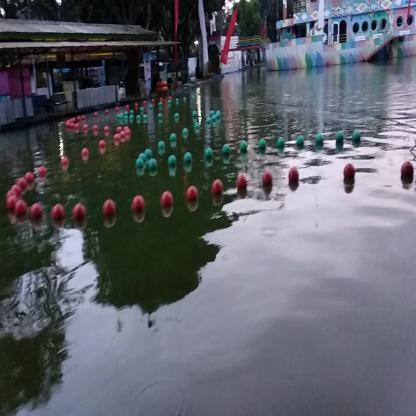green_buoy: (288, 170, 299, 192)
